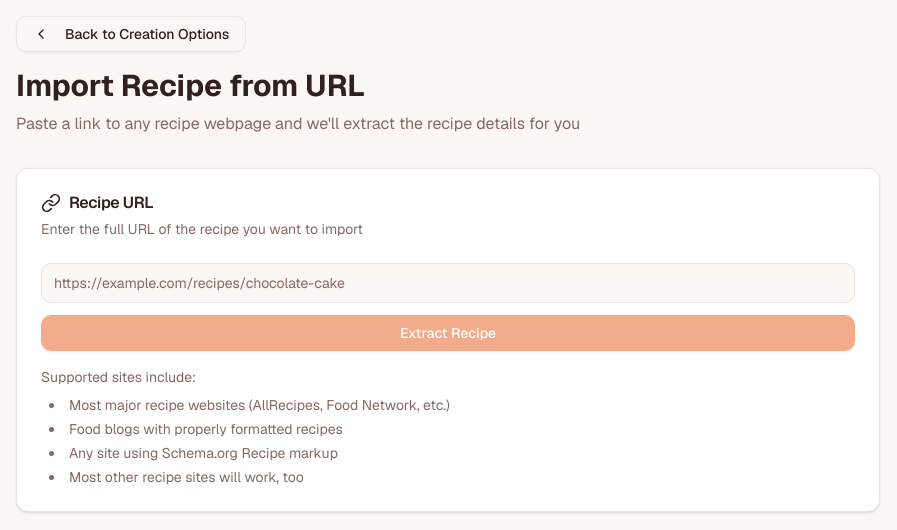
Test: UrlRecipePage › validates URL input
Expected: the button "Extract Recipe" is disabled, [41,315,855,351]
Note: Enter URL
Type "https://example.com/recipe" into the field with placeholder "https://example.com/recipes/chocolate-cake" at (448, 283), box [41,263,855,303]
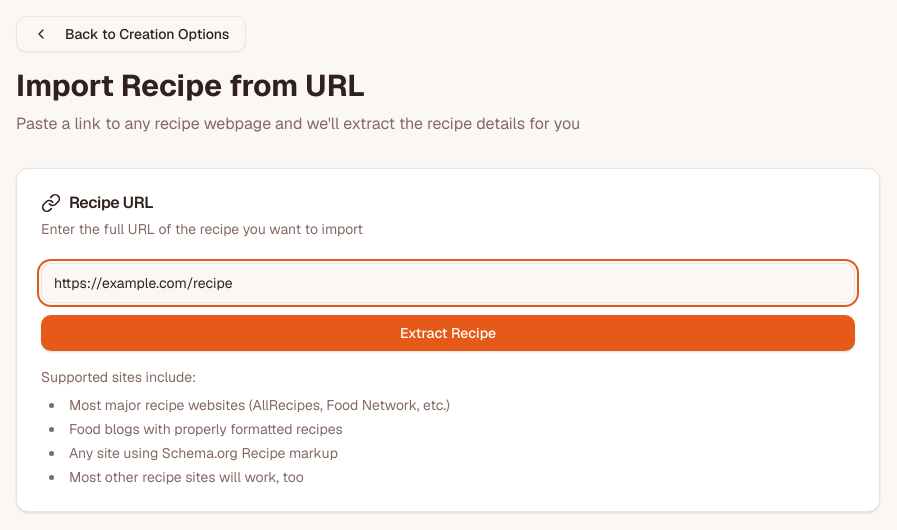
Result: the button "Extract Recipe" is enabled at [41,315,855,351]
